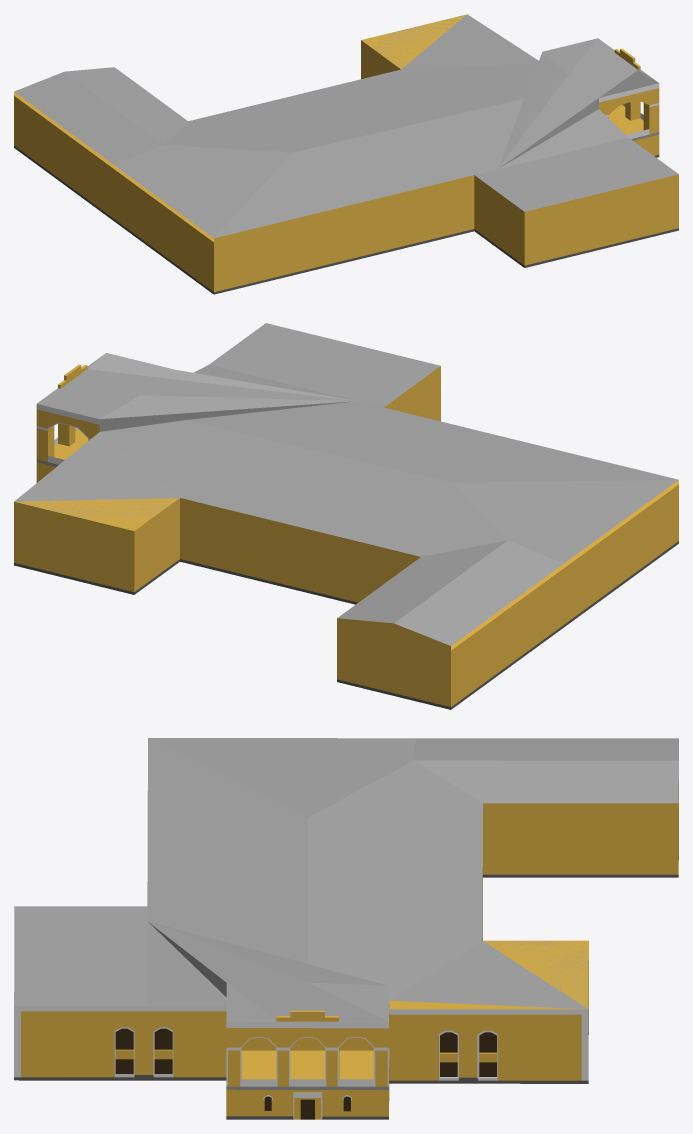
Rendered from Дом культуры.glb.
3 renders of one model, top to bottom at view 1: azimuth 30°, elevation 25°; view 2: azimuth 150°, elevation 25°; view 3: azimuth 270°, elevation 25°, orthographic. The views are drawn at different scales.
Visible parts, largest first — view 1: Городской дом культуры; view 2: Городской дом культуры; view 3: Городской дом культуры.
Part boxes in pixels (x1,y1,x2,y2): Городской дом культуры: (14, 14, 678, 294); Городской дом культуры: (14, 323, 678, 709); Городской дом культуры: (14, 738, 678, 1119).
Size of the model in its own units: 61.91 by 10.1 by 56.6.
